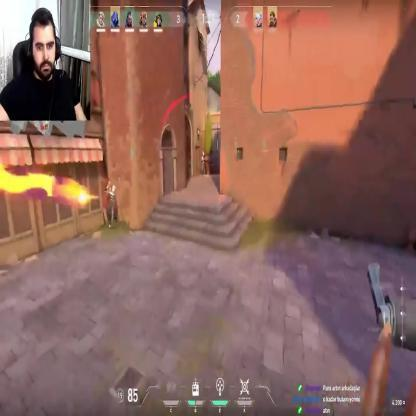enemy: (104, 179, 118, 230), (199, 150, 205, 176)
enemy_head: (107, 179, 112, 190), (202, 150, 206, 158)
